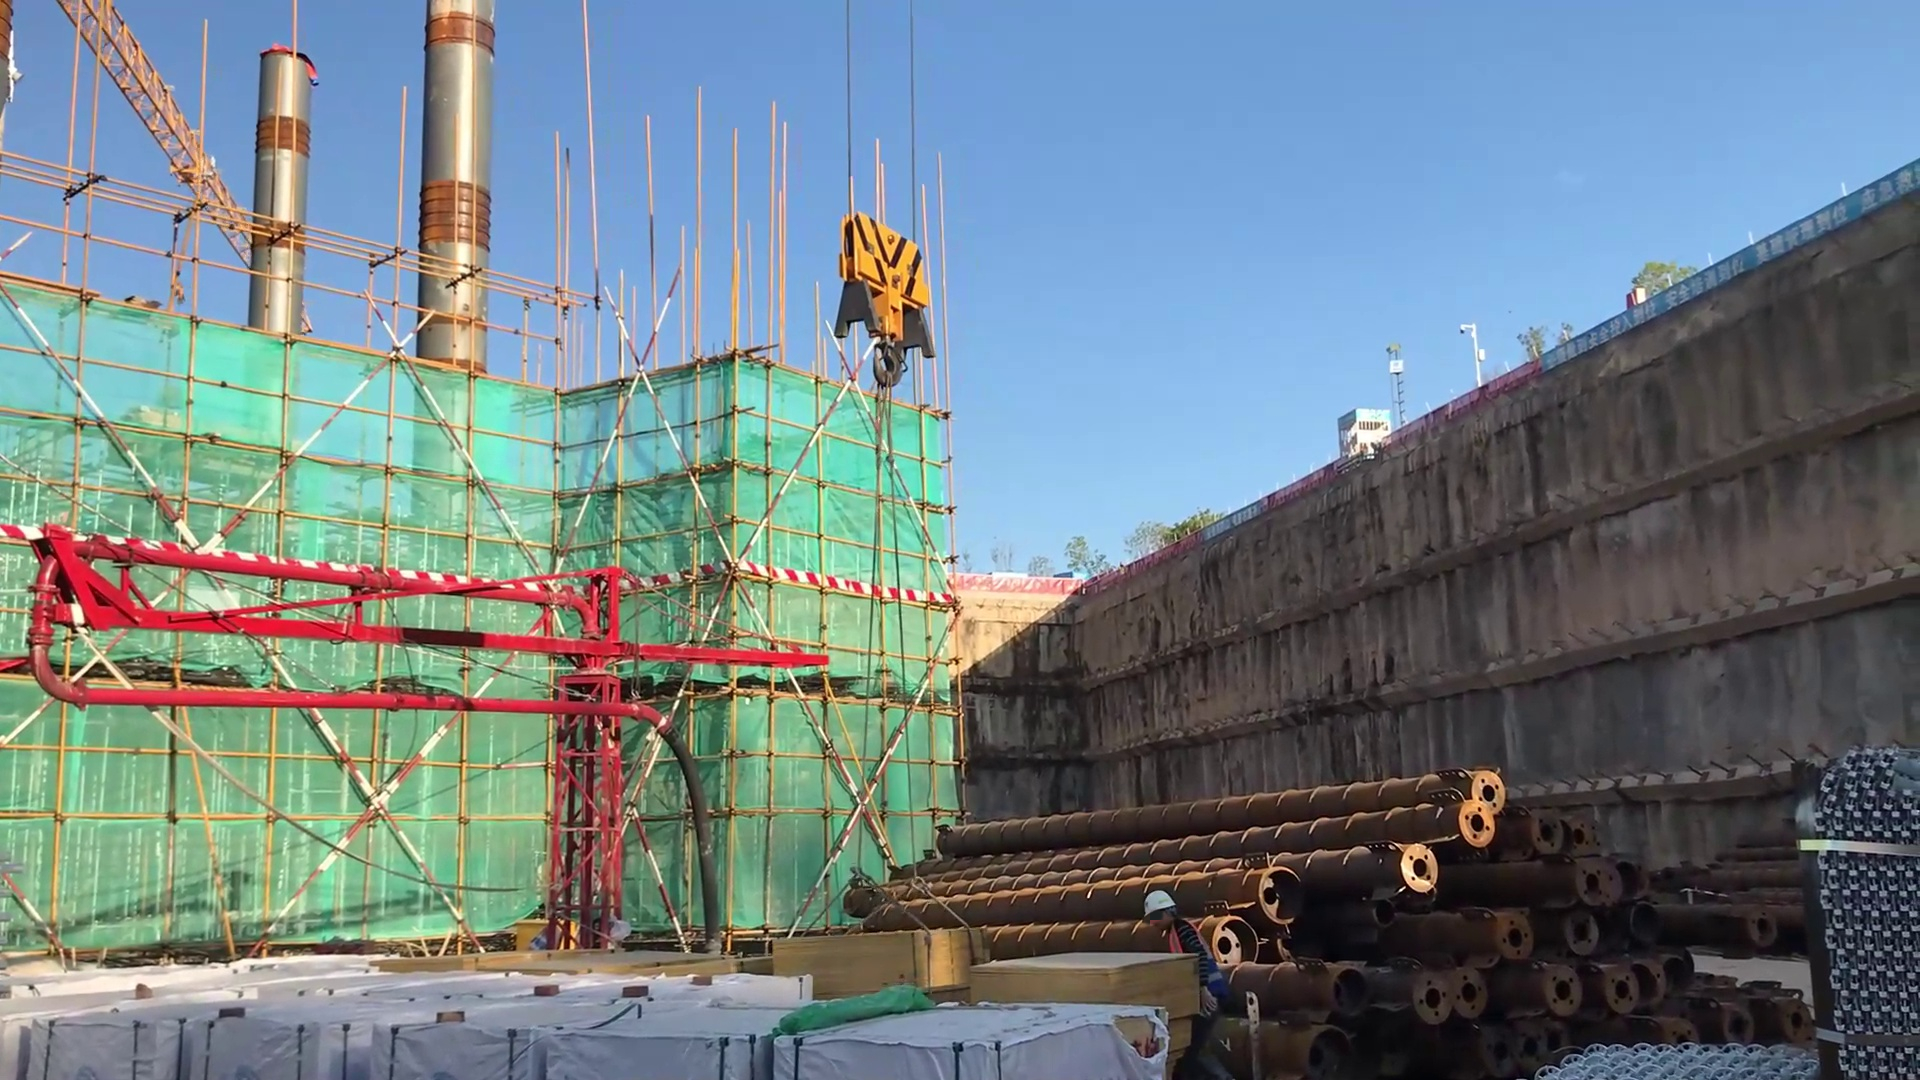board: (967, 951, 1201, 1026), (773, 919, 979, 1000)
ebox: (515, 914, 588, 955)
helmet: (1140, 891, 1180, 926)
hook: (813, 202, 975, 445)
person: (1141, 882, 1247, 1075)
scaffold: (1797, 733, 1920, 1076)
slogan: (1541, 155, 1920, 377), (1195, 496, 1266, 542)
vest: (1160, 914, 1230, 1035)
